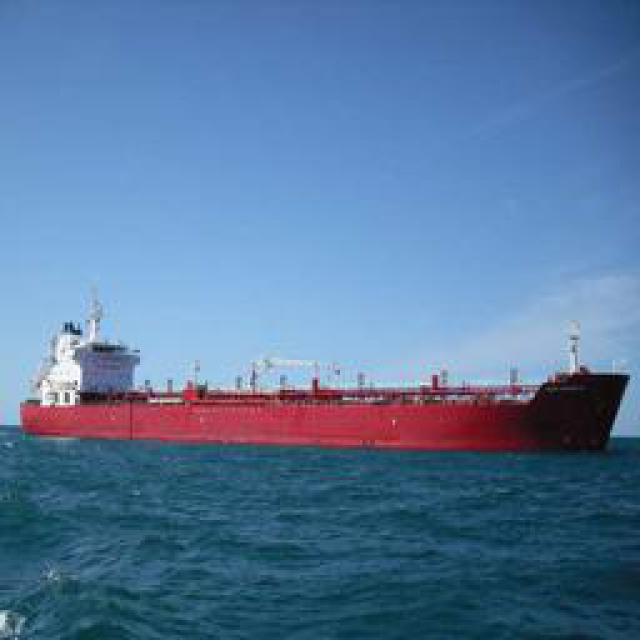Ship: (10, 292, 628, 455)
